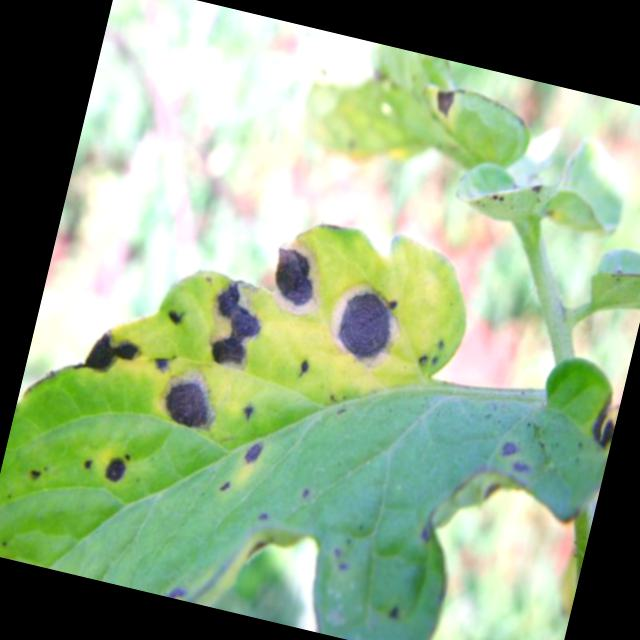Early_blight: (318, 271, 410, 373), (259, 229, 340, 320), (199, 274, 271, 373), (155, 362, 230, 436), (69, 318, 148, 384), (583, 385, 622, 451), (494, 434, 536, 475), (102, 443, 135, 486), (427, 81, 462, 121), (238, 433, 268, 471), (291, 354, 316, 382), (163, 578, 191, 601), (238, 397, 257, 426), (153, 347, 174, 373), (165, 306, 190, 327), (26, 460, 46, 485), (255, 505, 273, 525), (386, 602, 403, 620), (217, 475, 233, 492), (80, 455, 97, 471), (297, 482, 311, 497)
